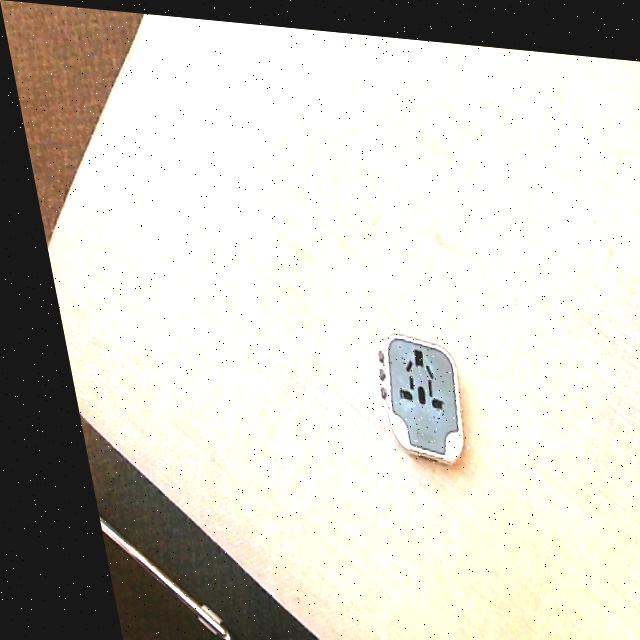adapter: (356, 323, 458, 459)
